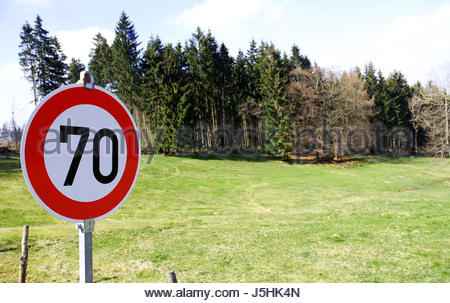Speed_limit_70km: (23, 85, 140, 220)
